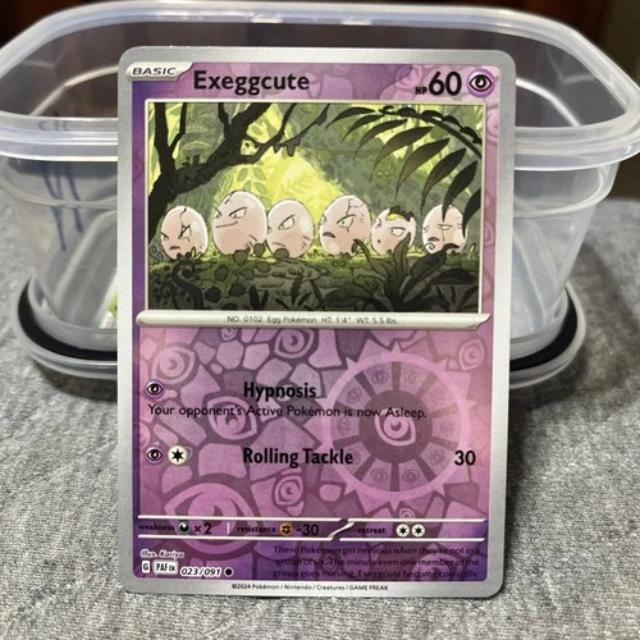Card: (111, 41, 518, 604)
Name: (183, 64, 314, 96)
